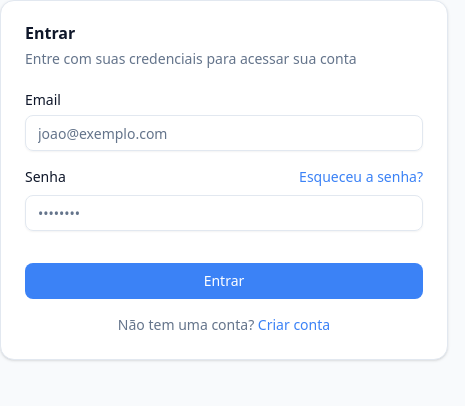
Test: SignInForm › deve validar senha obrigatória
In the field labelled "Email": x=224, y=133 [25,115,423,151], type "test@example.com"
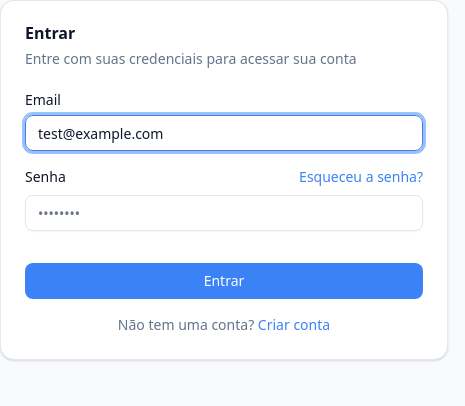
Click the button "Entrar": x=224, y=281 [25,263,423,299]
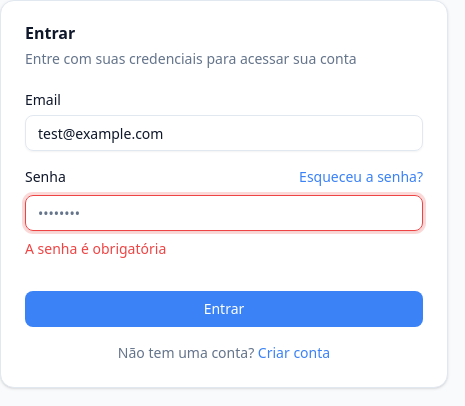
Expected: the text "A senha é obrigatória" is shown, [25,239,166,258]
